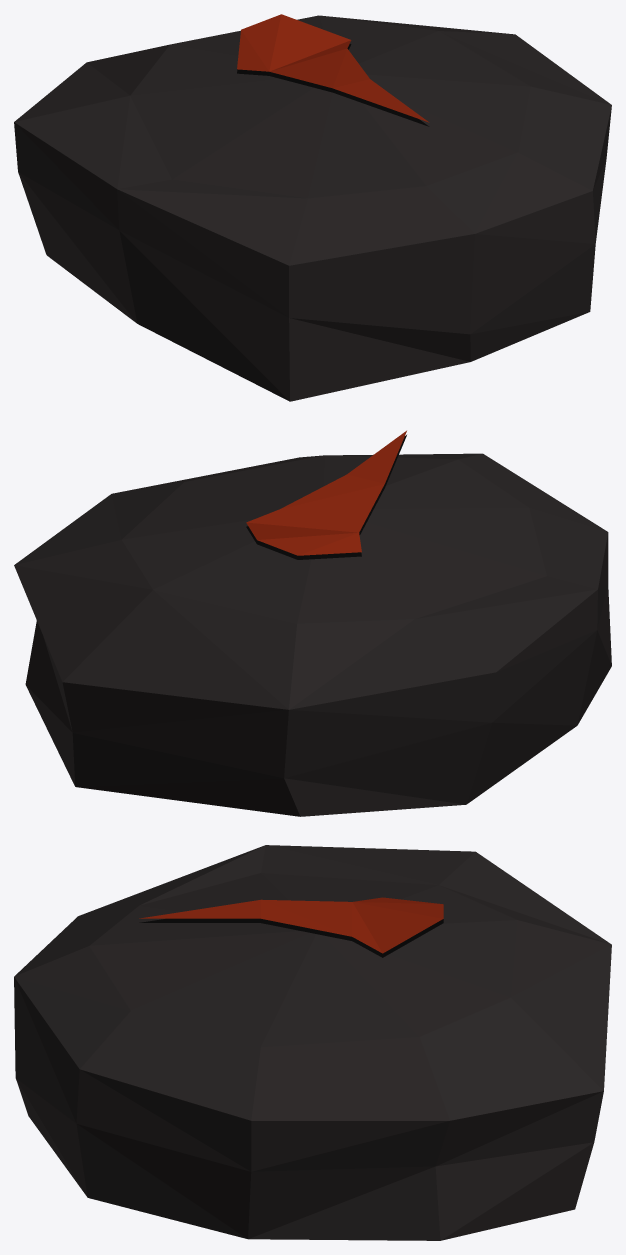
Rendered from obj_altar_14_0.obj.
3 renders of one model, top to bottom at view 1: azimuth 30°, elevation 25°; view 2: azimuth 150°, elevation 25°; view 3: azimuth 270°, elevation 25°, orthographic. The views are drawn at different scales.
Size of the model in its own units: 2.84 by 1.25 by 2.91.
